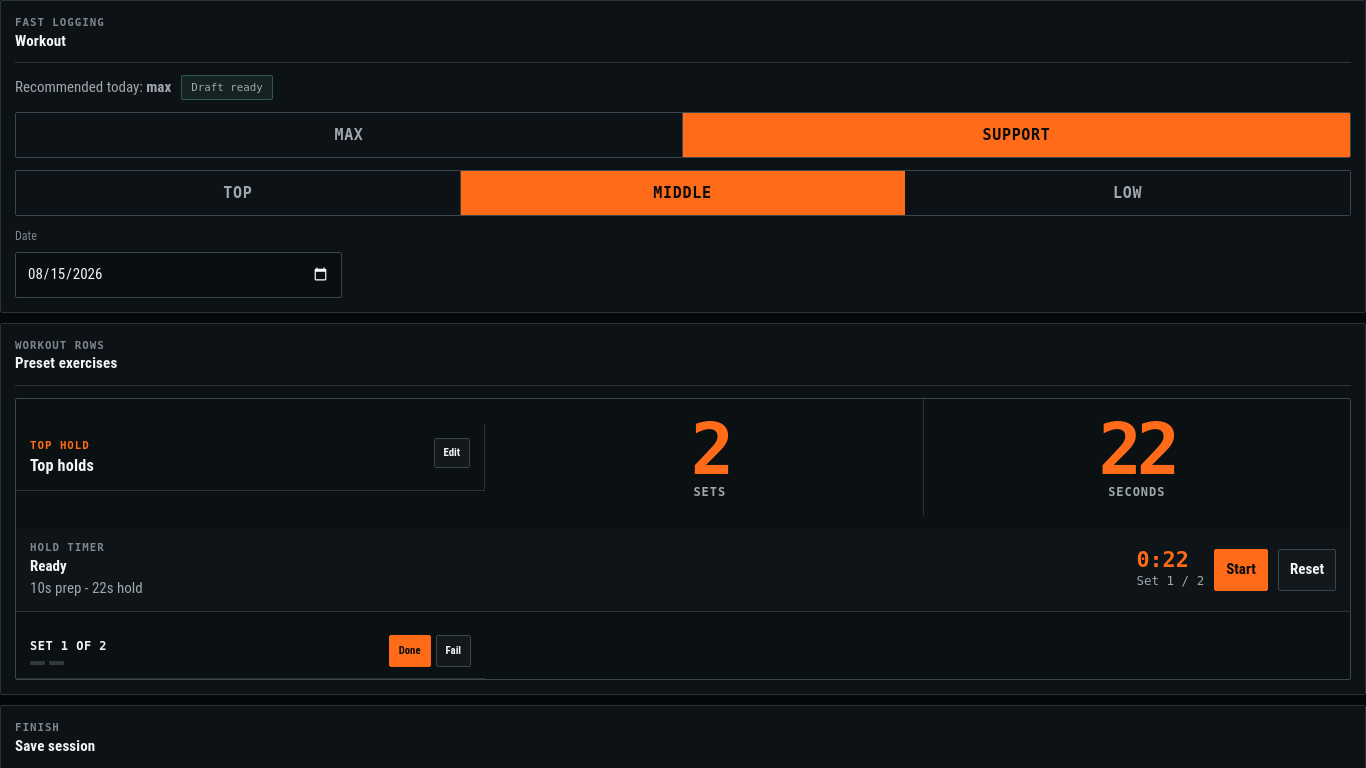
Test: LogWorkoutScreen preset rows › edits support targets and the between-set rest
Click the button "Edit" at [452, 453], box [434,438,470,468]
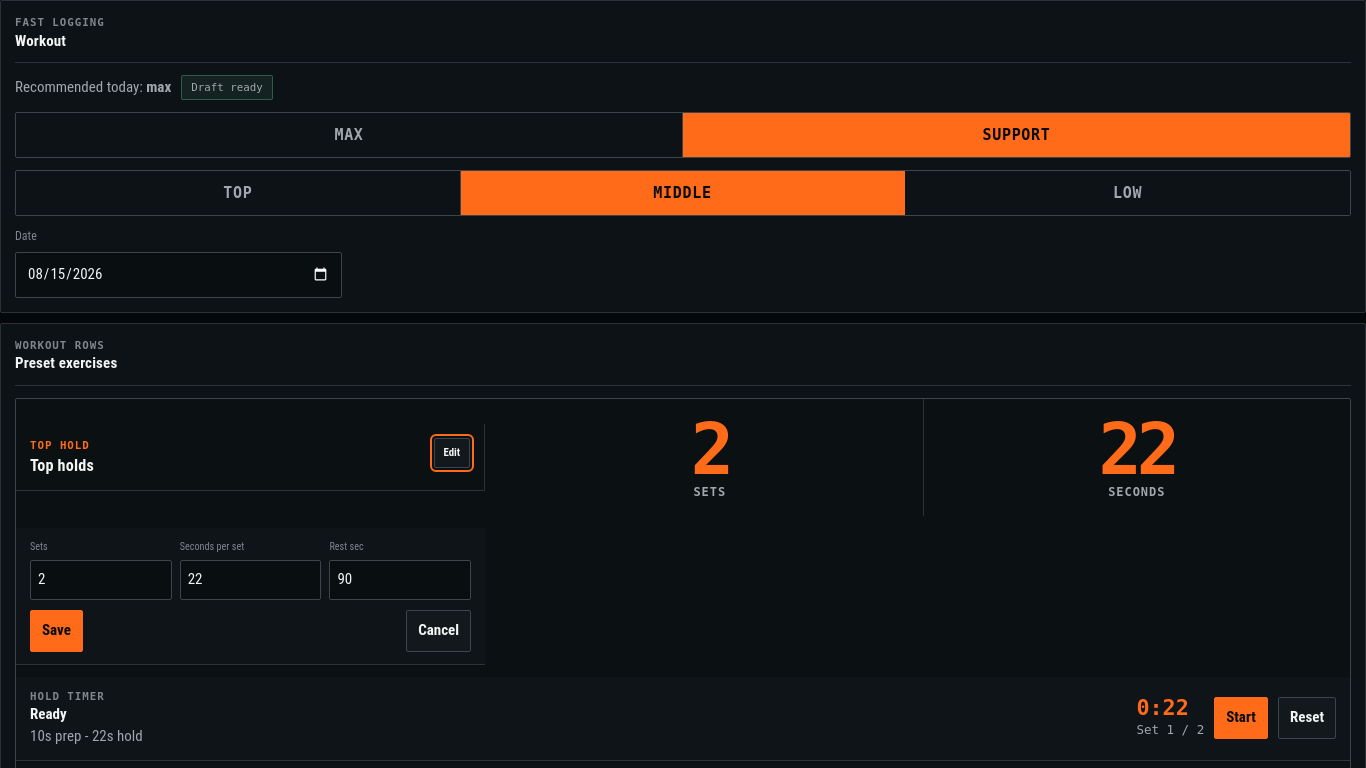
Result: the element named "Edit Top holds" is shown at [16,528,485,665]
Replace the text in the number field labelled "Sets" with "3" at [101, 580], box [30,560,172,600]
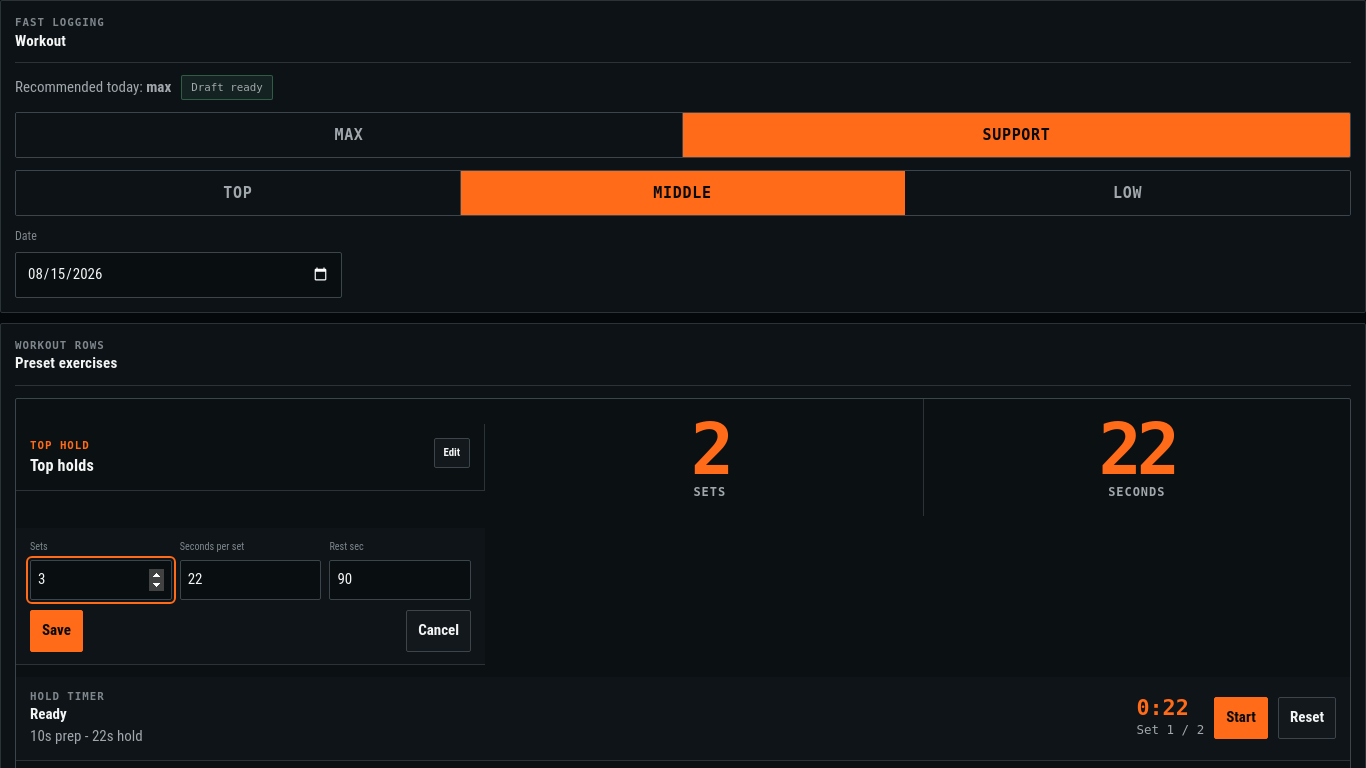
Replace the text in the number field labelled "Seconds per set" with "25" at [251, 580], box [180,560,321,600]
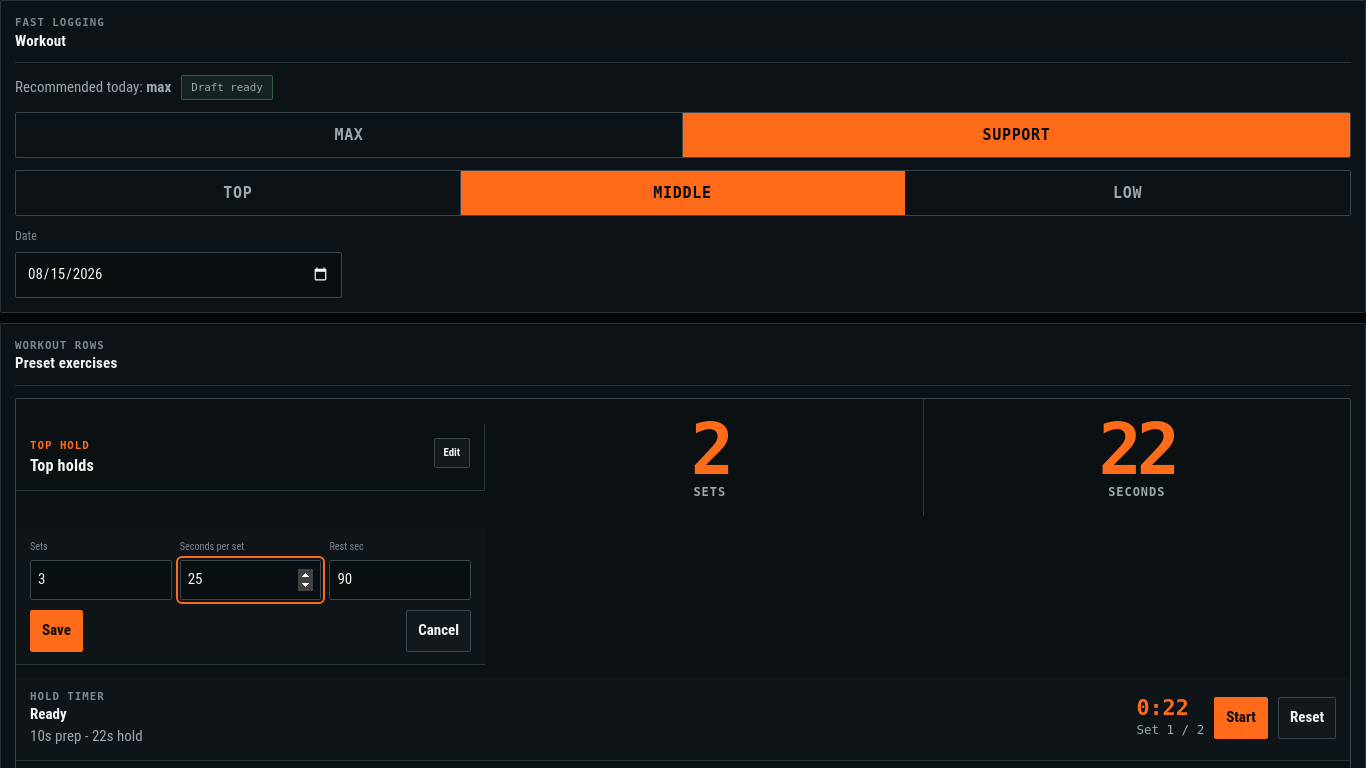
Replace the text in the number field labelled "Rest sec" with "75" at [400, 580], box [329,560,471,600]
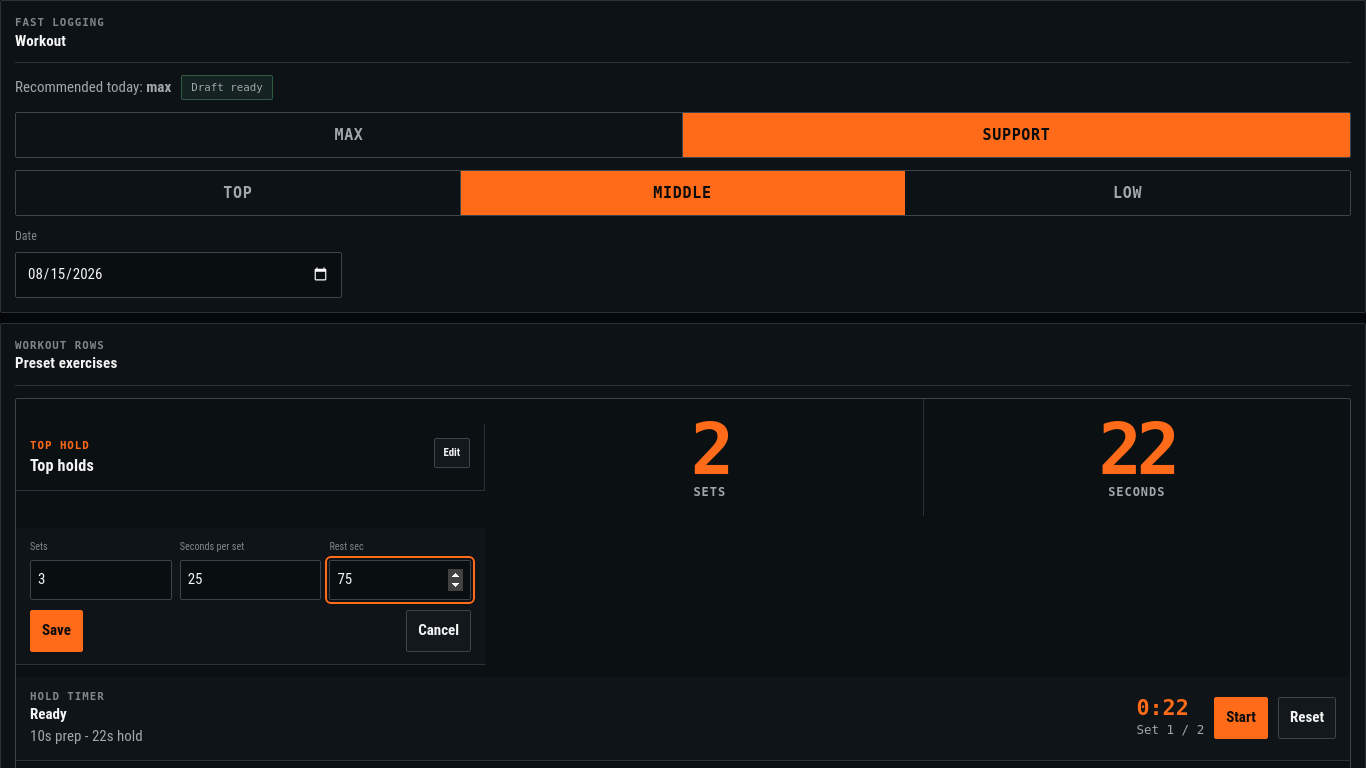
Click the button "Save" at [56, 631], box [30,610,83,652]
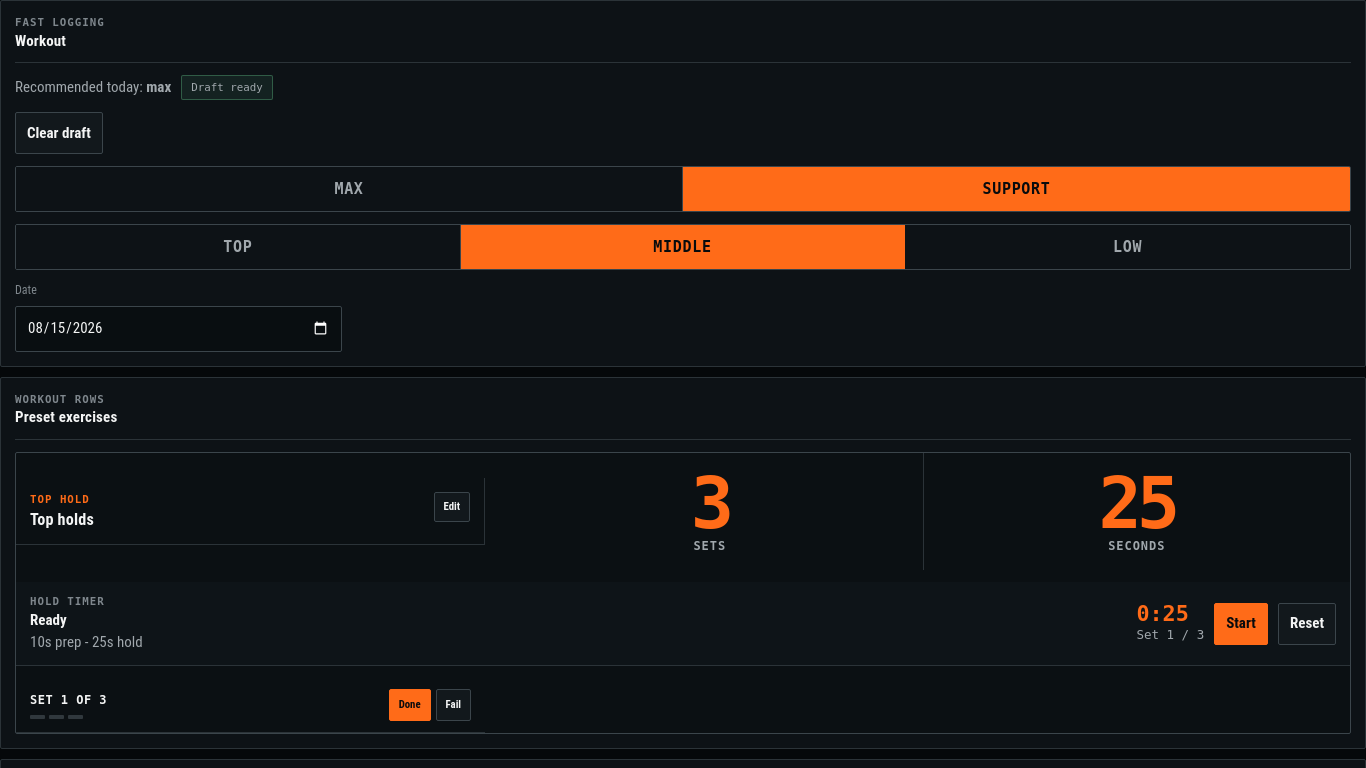
Result: the element named "3x25s hold" is shown at [497,453,1175,570]
Result: the text "Set 1 of 3" is shown at [30,692,107,709]
Click the button "Done" at [410, 705], box [389,689,431,721]
(page scrolled)
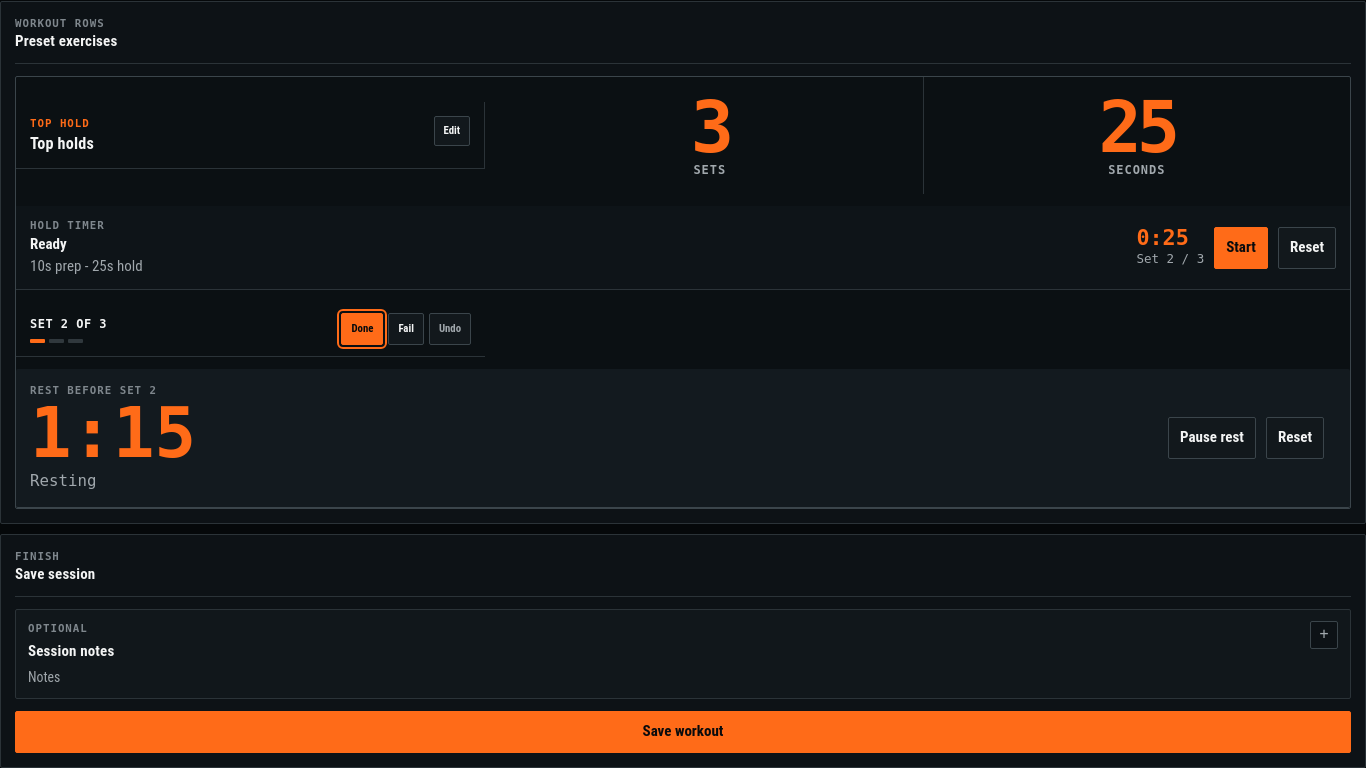
Result: the text "1:15" is shown at [30,399,196,468]
